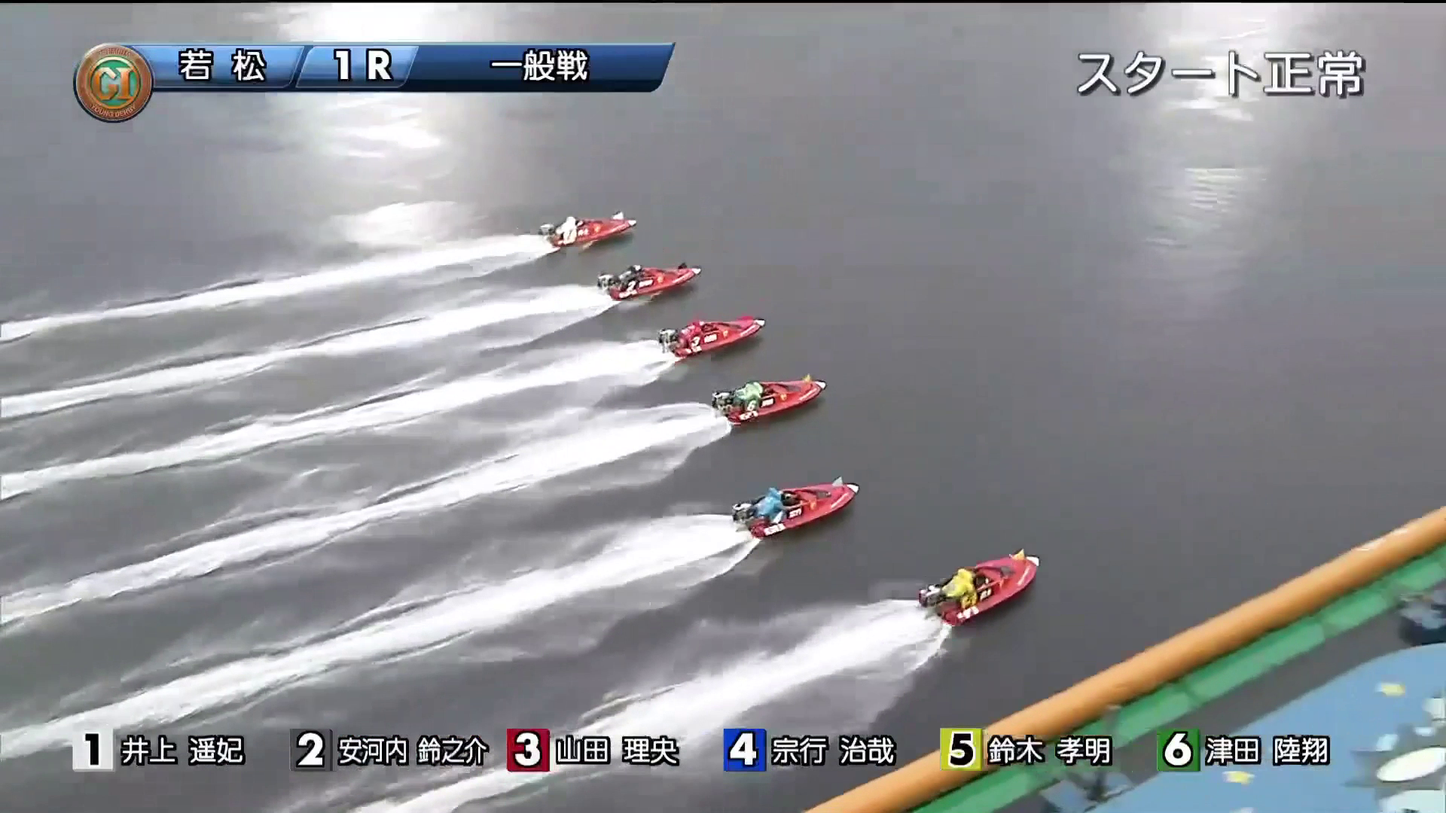１号艇: (545, 211, 621, 250)
２号艇: (590, 258, 688, 296)
３号艇: (649, 312, 763, 353)
４号艇: (708, 379, 812, 422)
５号艇: (725, 482, 846, 537)
６号艇: (894, 562, 1032, 619)
